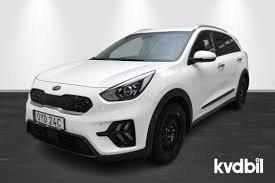license-plates: (34, 111, 65, 130)
